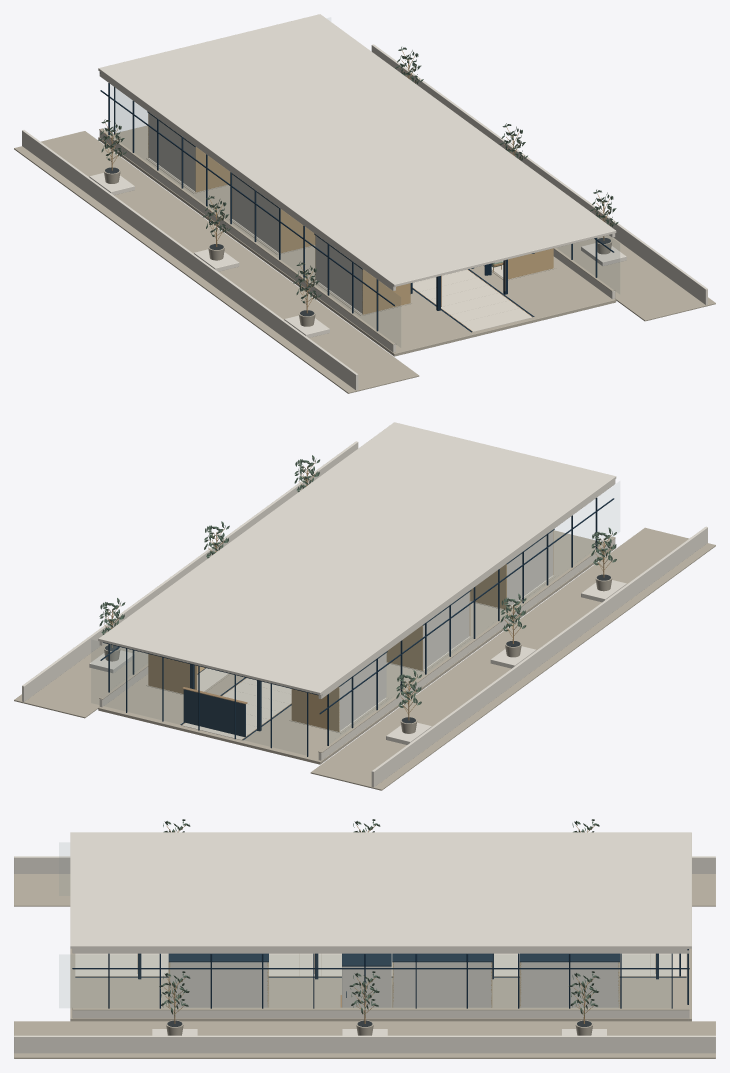
File: china.glb
3 renders of one model, top to bottom at view 1: azimuth 30°, elevation 25°; view 2: azimuth 150°, elevation 25°; view 3: azimuth 270°, elevation 25°, orthographic. The views are drawn at different scales.
Parts seen in each view (by area): view 1: SHOWROOM · china process promenade; view 2: SHOWROOM · china process promenade; view 3: SHOWROOM · china process promenade, Wind in the olive crown (×3).
Part boxes in pixels (<box>): SHOWROOM · china process promenade: <box>14,14,715,393</box>; SHOWROOM · china process promenade: <box>14,422,715,790</box>; SHOWROOM · china process promenade: <box>14,830,715,1058</box>; Wind in the olive crown (×3): <box>159,971,599,1017</box>.
Size of the model in its own units: 30.5 by 5.7 by 48.
